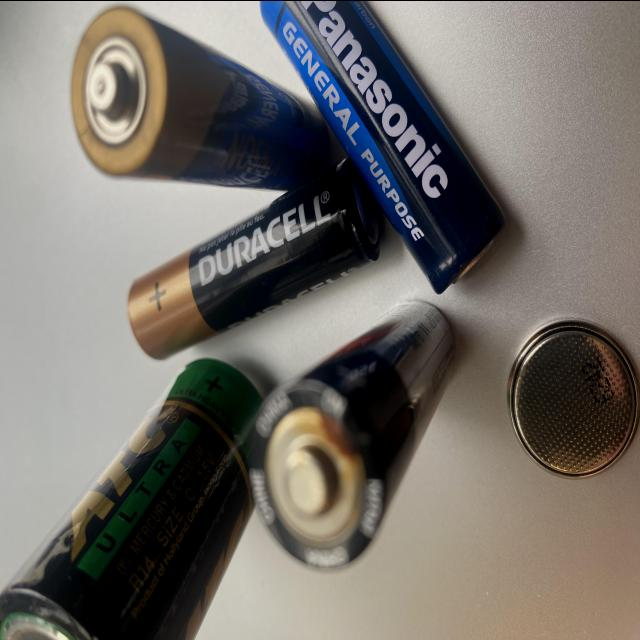COIN: (493, 300, 640, 507)
